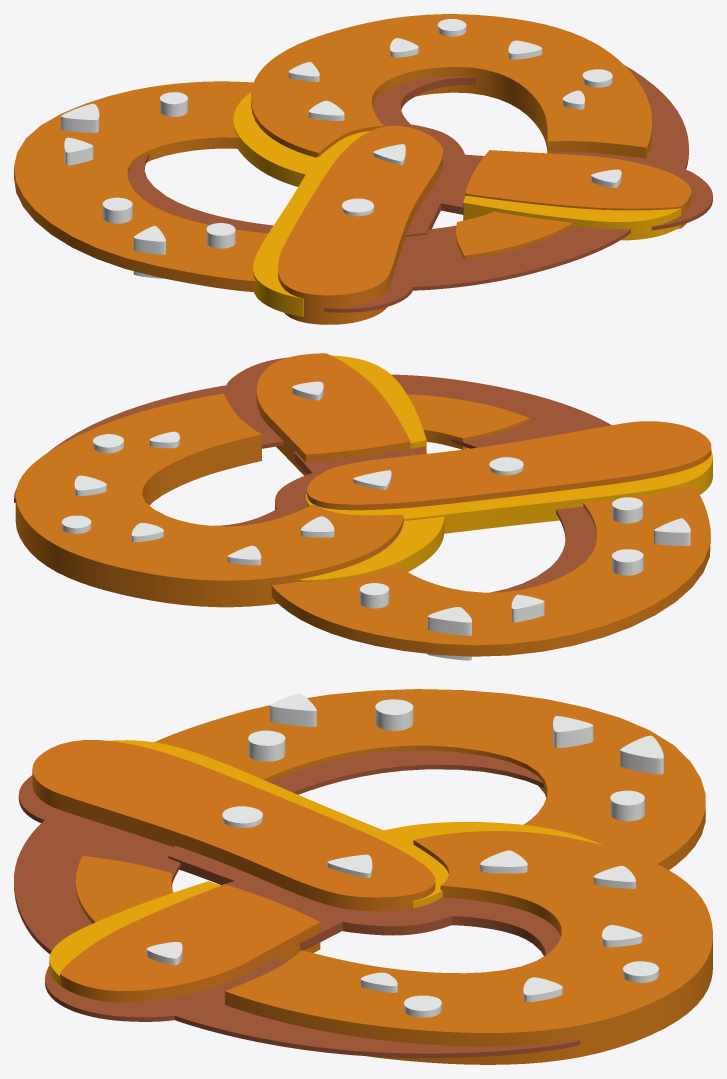
The model's file is emoji_u1f968.glb.
3 renders of one model, top to bottom at view 1: azimuth 30°, elevation 25°; view 2: azimuth 150°, elevation 25°; view 3: azimuth 270°, elevation 25°, orthographic. The views are drawn at different scales.
Parts seen in each view (by area): view 1: emoji_u1f968; view 2: emoji_u1f968; view 3: emoji_u1f968.
Part boxes in pixels (x1,y1,x2,y2): emoji_u1f968: (14,14,712,324); emoji_u1f968: (14,353,712,660); emoji_u1f968: (14,689,712,1064).
Bounding box in the file's own units: 0.034 × 0.002 × 0.0279.
